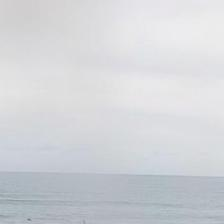surfer: (27, 218, 32, 221), (83, 219, 86, 223)
